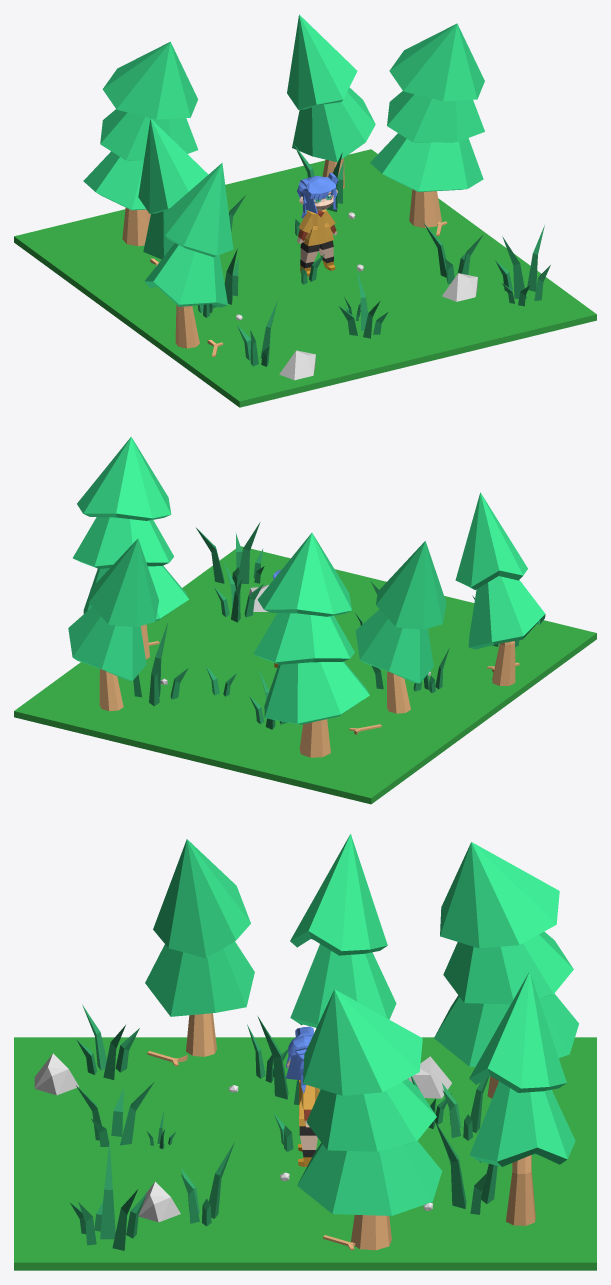
File: escenariovirtual.glb
3 renders of one model, top to bottom at view 1: azimuth 30°, elevation 25°; view 2: azimuth 150°, elevation 25°; view 3: azimuth 270°, elevation 25°, orthographic. The views are drawn at different scales.
Parts seen in each view (by area): view 1: Cube, Tree 03.001, Tree 03, Tree 02.002, Tree 02, Tree 02.001, Circle.012_Grass_0.003, cabello2, camisa, Circle.005_Grass_0.002, Circle.005_Grass_0.001, Circle.005_Grass_0.003 (+4 smaller); view 2: Cube, Tree 03, Tree 03.001, Tree 02, Tree 02.001, Tree 02.002, Circle.012_Grass_0.003, Circle.012, Circle.005_Grass_0.001; view 3: Cube, Tree 03.001, Tree 03, Tree 02.002, Tree 02, Tree 02.001, Circle.012_Grass_0.003, Circle.012, Circle.005_Grass_0.003, Circle.005_Grass_0.002, Circle.005_Grass_0.001, Rock 01.002 (+5 smaller).
Part boxes in pixels (<box>): Cube: <box>14,149,596,407</box>; Tree 03.001: <box>370,23,484,227</box>; Tree 03: <box>83,41,198,246</box>; Tree 02.002: <box>144,163,233,348</box>; Tree 02: <box>287,14,375,188</box>; Tree 02.001: <box>138,118,208,259</box>; Circle.012_Grass_0.003: <box>495,225,550,300</box>; cabello2: <box>297,172,338,218</box>; camisa: <box>298,209,335,246</box>; Circle.005_Grass_0.002: <box>339,270,388,338</box>; Circle.005_Grass_0.001: <box>423,223,483,284</box>; Circle.005_Grass_0.003: <box>237,300,277,366</box>; Cube: <box>14,546,596,804</box>; Tree 03: <box>253,533,369,757</box>; Tree 03.001: <box>73,437,188,659</box>; Tree 02: <box>68,538,158,711</box>; Tree 02.001: <box>355,541,446,713</box>; Tree 02.002: <box>455,492,545,685</box>; Circle.012_Grass_0.003: <box>196,522,260,589</box>; Circle.012: <box>133,622,188,706</box>; Circle.005_Grass_0.001: <box>214,561,263,622</box>; Cube: <box>14,1037,596,1270</box>; Tree 03.001: <box>297,989,442,1250</box>; Tree 03: <box>434,842,578,1098</box>; Tree 02.002: <box>145,839,254,1056</box>; Tree 02: <box>469,971,575,1225</box>; Tree 02.001: <box>290,834,396,1027</box>; Circle.012_Grass_0.003: <box>78,1141,146,1250</box>; Circle.012: <box>434,1120,497,1214</box>; Circle.005_Grass_0.003: <box>76,1004,139,1079</box>; Circle.005_Grass_0.002: <box>76,1082,154,1146</box>; Circle.005_Grass_0.001: <box>180,1142,234,1226</box>; Rock 01.002: <box>34,1053,79,1095</box>.
Size of the model in its own units: 12.2 by 6.22 by 12.08.
9 materials, 6 textured.
